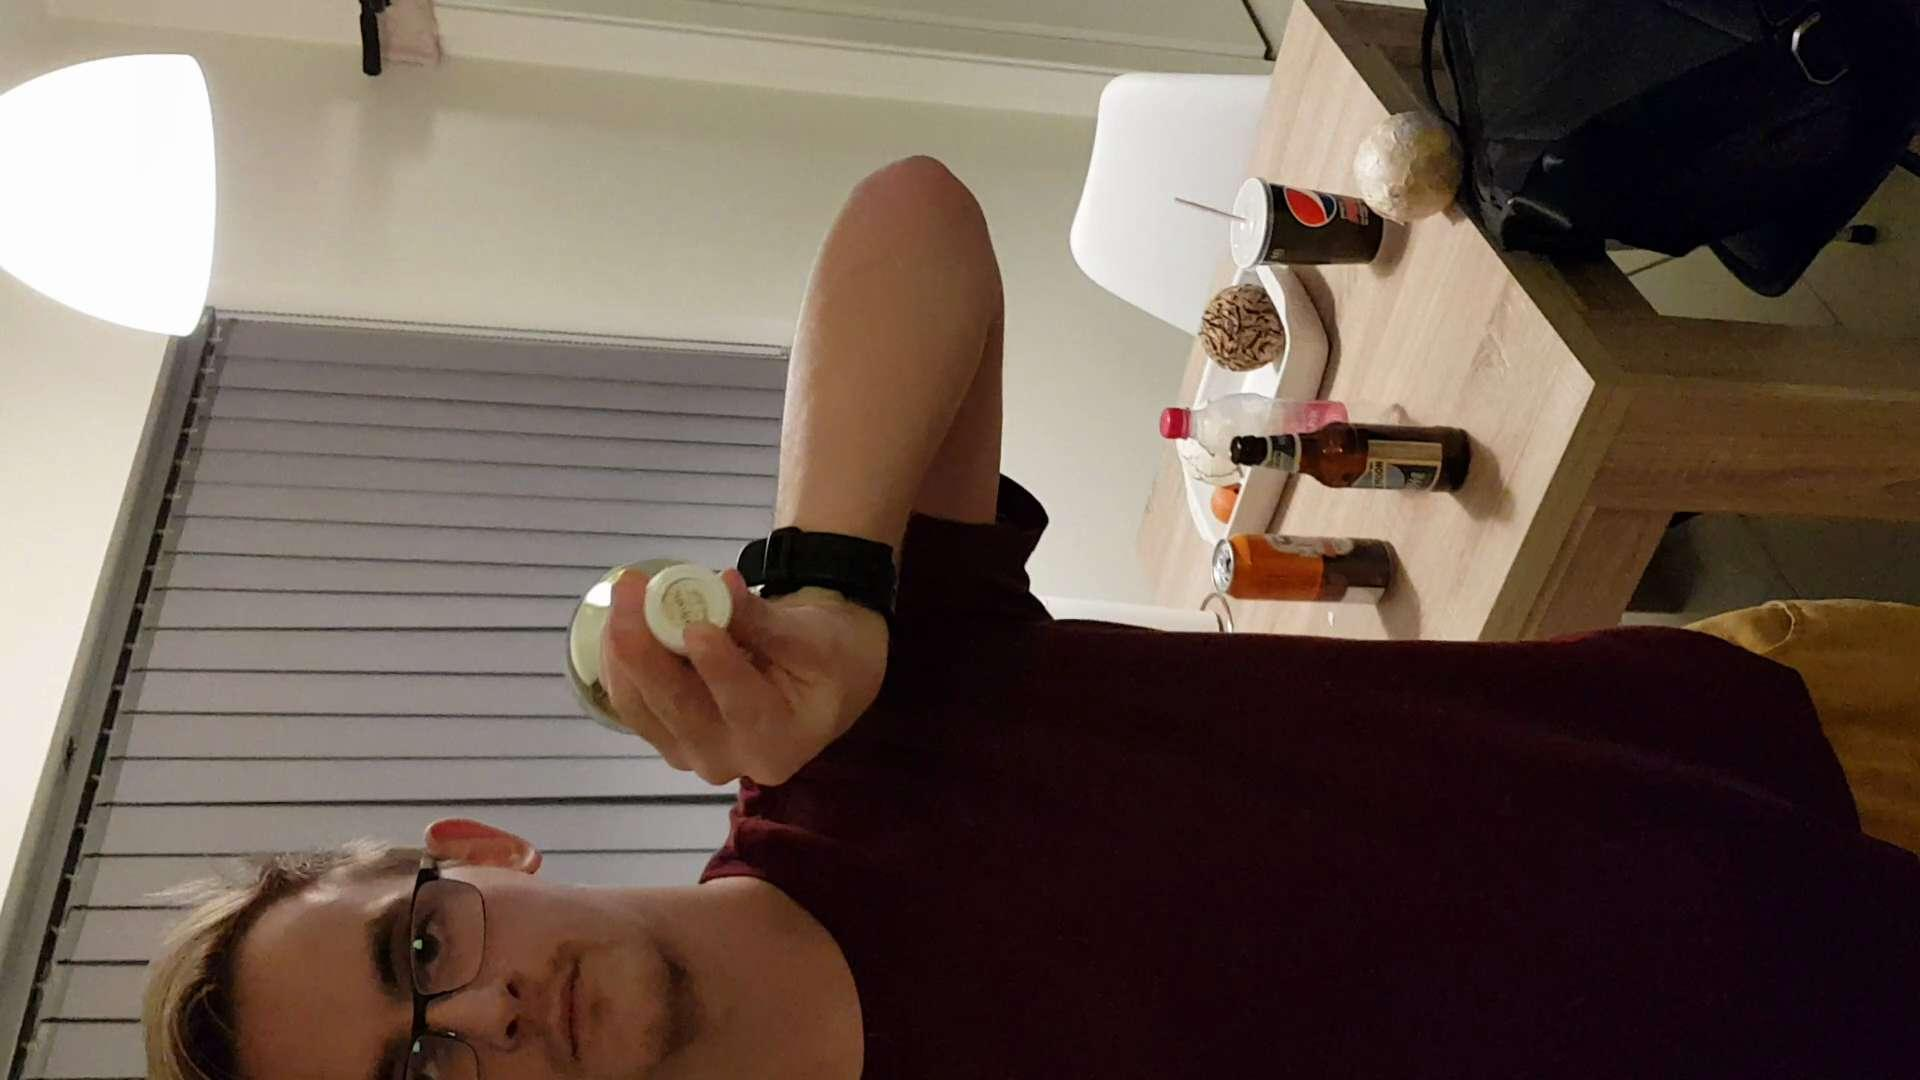Bottle: (555, 549, 738, 736), (1232, 419, 1476, 505)
Can: (1215, 533, 1412, 616)
Sphere: (1358, 107, 1472, 225)
